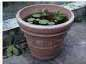contianer: (15, 2, 75, 62)
water: (23, 11, 69, 27)
